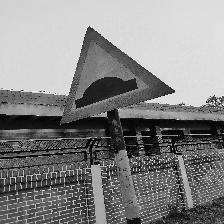Speed-breaker: (60, 26, 175, 124)
